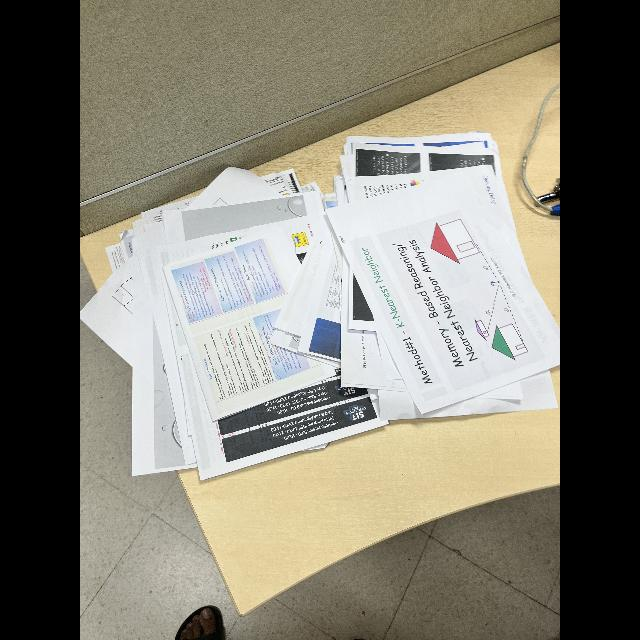reuseable_paper: (80, 128, 560, 482)
